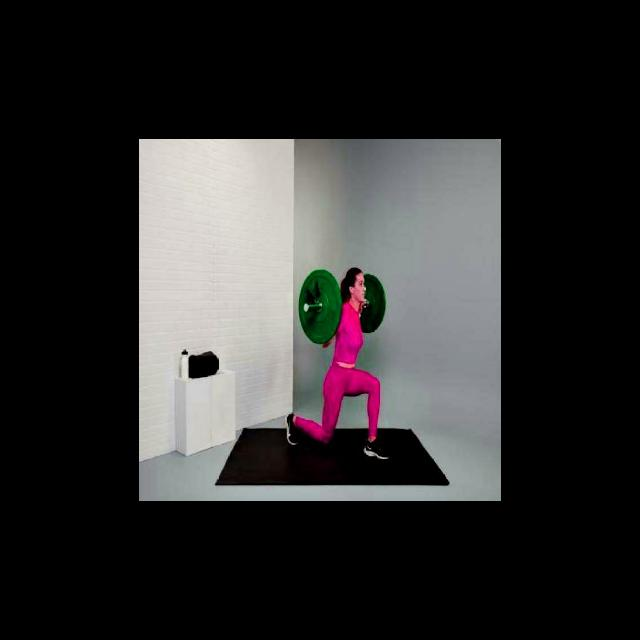barbell: (293, 267, 345, 346)
